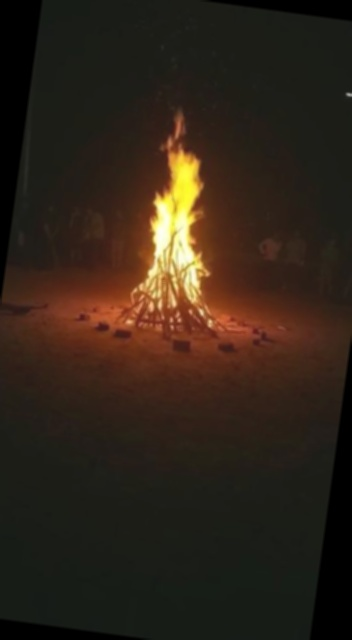fire: (83, 93, 261, 336)
